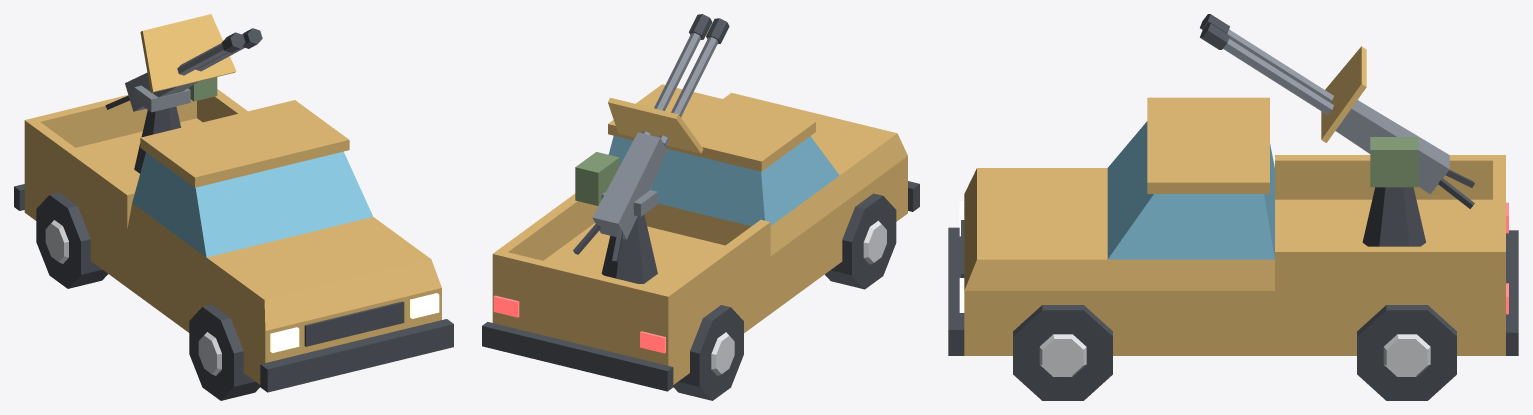
File: pickup_aa.glb
3 views of the same model, side by side, from view 1: azimuth 30°, elevation 25°; view 2: azimuth 150°, elevation 25°; view 3: azimuth 270°, elevation 25° (orthographic). The views are drawn at different scales.
Parts seen in each view (by area): view 1: LowPolyPickup_AA; view 2: LowPolyPickup_AA; view 3: LowPolyPickup_AA.
Part boxes in pixels (<box>): LowPolyPickup_AA: <box>14,14,453,400</box>; LowPolyPickup_AA: <box>482,14,919,400</box>; LowPolyPickup_AA: <box>948,14,1518,400</box>.
Size of the model in its own units: 1.66 by 2.27 by 3.58.
